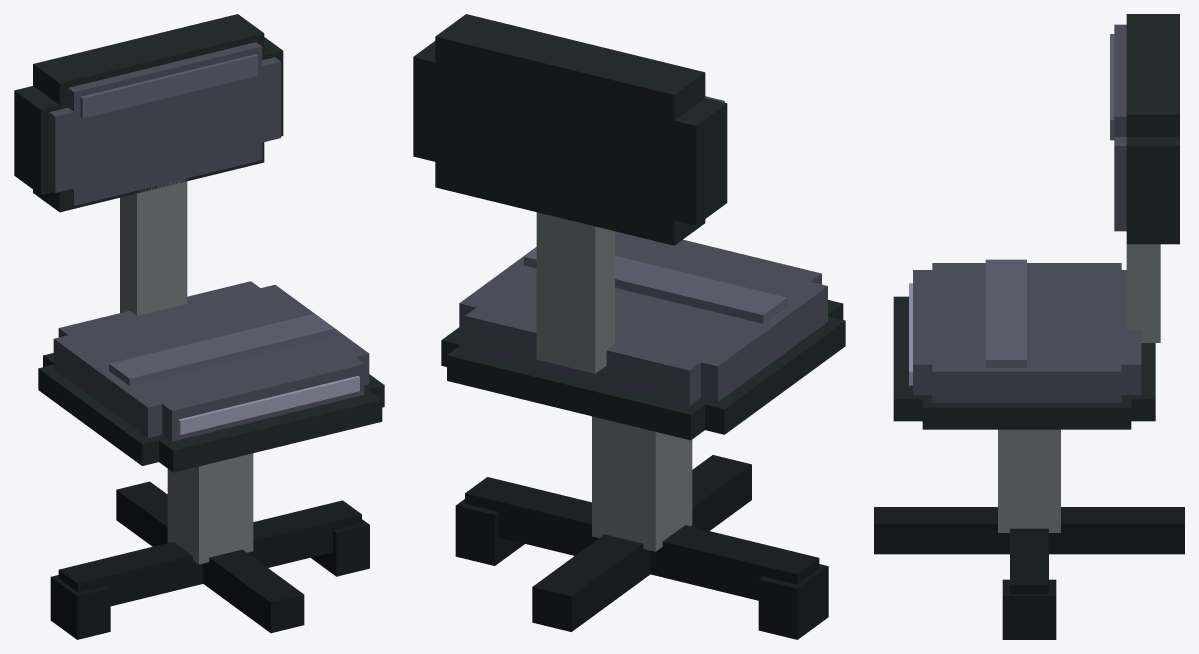
Rendered from CMU3DOfficeChairDark.glb.
The picture shows the model from 3 angles, left to right: view 1: azimuth 30°, elevation 25°; view 2: azimuth 150°, elevation 25°; view 3: azimuth 270°, elevation 25°; orthographic projection. The views are drawn at different scales.
Visible parts, largest first — view 1: back cushion center, seat cushion center, back cushion middle, seat cushion inset, caster cross X, back shell middle, back stem, lift pedestal, caster cross Y, seat frame middle, seat highlight band, caster wheel (×2) (+4 smaller); view 2: back shell center, back shell middle, seat cushion inset, seat cushion center, caster cross X, back stem, lift pedestal, caster cross Y, seat frame middle, caster wheel (×2), seat frame center, seat highlight band; view 3: seat cushion inset, caster cross Y, seat cushion center, back shell middle, lift pedestal, seat frame center, back shell center, seat highlight band, seat frame middle, back stem, caster wheel, caster cross X (+3 smaller).
Part boxes in pixels (box(x1,y1,x2,y2)): back cushion center: box(49, 57, 280, 192); seat cushion center: box(53, 285, 369, 437); back cushion middle: box(68, 42, 262, 205); seat cushion inset: box(58, 281, 364, 441); caster cross X: box(58, 500, 361, 606); back shell middle: box(33, 14, 264, 212); back stem: box(120, 179, 187, 315); lift pedestal: box(167, 453, 253, 564); caster cross Y: box(116, 481, 304, 633); seat frame middle: box(43, 353, 382, 472); seat highlight band: box(109, 314, 334, 385); caster wheel (×2): box(50, 519, 369, 639); back shell center: box(413, 41, 727, 225); back shell middle: box(435, 14, 705, 245); seat cushion inset: box(465, 231, 821, 406); seat cushion center: box(459, 234, 827, 401); caster cross X: box(465, 477, 819, 600); back stem: box(536, 212, 614, 373); lift pedestal: box(592, 416, 692, 551); caster cross Y: box(532, 455, 751, 631); seat frame middle: box(447, 300, 843, 440); caster wheel (×2): box(455, 499, 828, 639); seat frame center: box(441, 316, 845, 434); seat highlight band: box(524, 248, 787, 323); seat cushion inset: box(913, 270, 1141, 395); caster cross Y: box(874, 507, 1184, 554); seat cushion center: box(932, 263, 1121, 402); back shell middle: box(1126, 14, 1179, 244); lift pedestal: box(998, 429, 1060, 532); seat frame center: box(922, 395, 1131, 429); back shell center: box(1126, 136, 1179, 231); seat highlight band: box(985, 259, 1026, 367); seat frame middle: box(893, 296, 1155, 421); back stem: box(1126, 244, 1160, 342); caster wheel: box(1002, 579, 1056, 639); caster cross X: box(1010, 528, 1048, 593).
Size of the model in its own units: 0.7 by 1.15 by 0.64.
